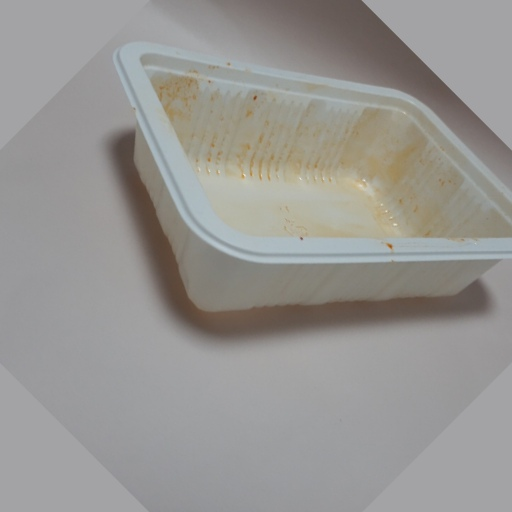Plastic_4: (109, 37, 512, 312)
